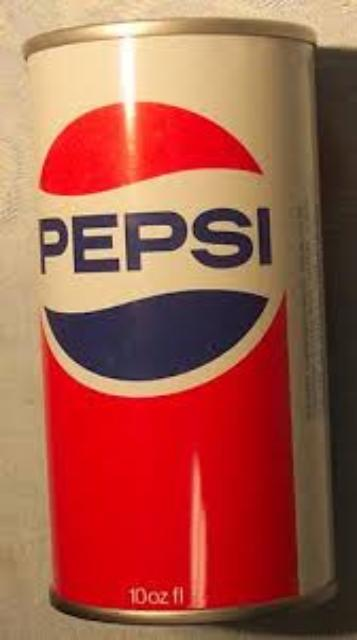metal: (23, 17, 327, 617)
